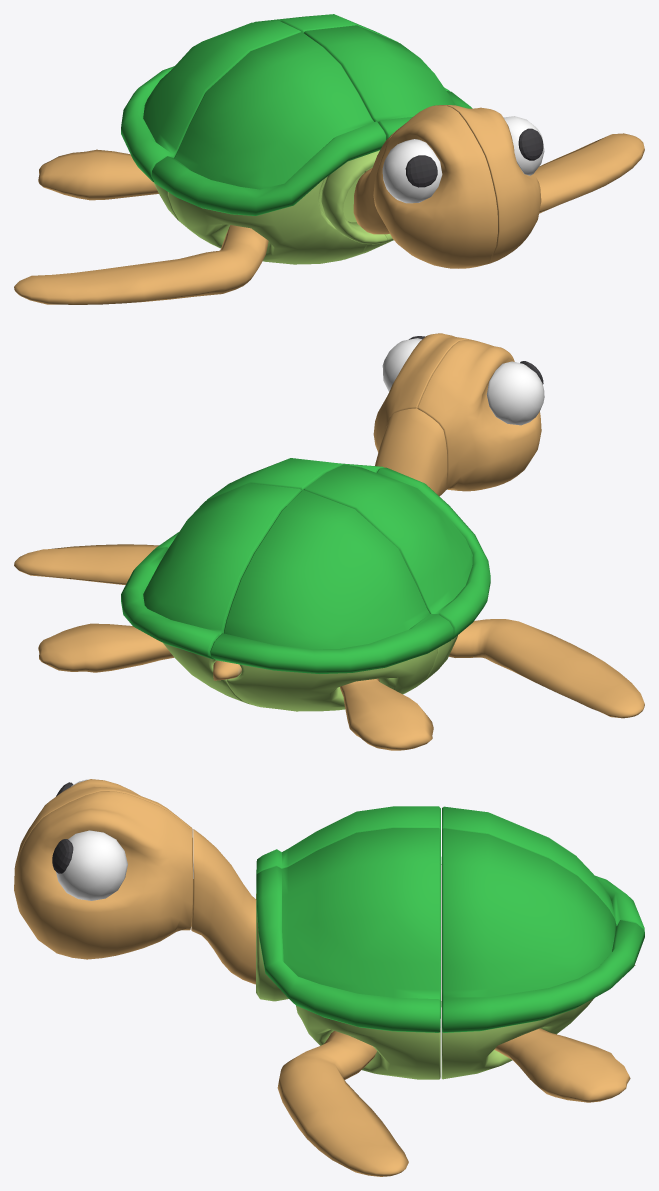
The model's file is Level_P_13.fbx.
3 views of the same model, one above another, from view 1: azimuth 30°, elevation 25°; view 2: azimuth 150°, elevation 25°; view 3: azimuth 270°, elevation 25° (orthographic). The views are drawn at different scales.
Visible parts, largest first — view 1: caparazon superior.002, cabeza.002, aleta iz, caparazon superior.001, caparazon superior.003, caparazon inferior.002, cabeza.003, aleta iz.001, pata iz, ojoiz.001, caparazon inferior.001, cabeza.001 (+2 smaller); view 2: caparazon superior.001, caparazon superior.004, caparazon superior.002, cabeza.002, aleta iz, caparazon inferior, pata iz.001, pata iz, cabeza.001, aleta iz.001, cabeza.003, ojoiz.001 (+3 smaller); view 3: caparazon superior.003, caparazon superior.004, cabeza.003, aleta iz.001, cabeza.001, pata iz.001, caparazon inferior.004, caparazon superior.001, ojoiz.002, caparazon inferior.005, caparazon superior.002, cabeza.002 (+1 smaller).
Boxes of the visible parts, x1=… form: caparazon superior.002: x1=151, y1=32, x2=386, y2=215; cabeza.002: x1=373, y1=105, x2=497, y2=268; aleta iz: x1=14, y1=225, x2=268, y2=304; caparazon superior.001: x1=121, y1=21, x2=301, y2=181; caparazon superior.003: x1=304, y1=25, x2=472, y2=139; caparazon inferior.002: x1=168, y1=172, x2=366, y2=264; cabeza.003: x1=433, y1=105, x2=541, y2=263; aleta iz.001: x1=534, y1=133, x2=644, y2=213; pata iz: x1=38, y1=149, x2=158, y2=200; ojoiz.001: x1=382, y1=139, x2=442, y2=203; caparazon inferior.001: x1=321, y1=150, x2=387, y2=244; cabeza.001: x1=353, y1=128, x2=399, y2=234; caparazon superior.001: x1=210, y1=490, x2=453, y2=673; caparazon superior.004: x1=121, y1=483, x2=301, y2=659; caparazon superior.002: x1=303, y1=464, x2=490, y2=639; cabeza.002: x1=417, y1=339, x2=541, y2=491; aleta iz: x1=449, y1=619, x2=644, y2=718; caparazon inferior: x1=227, y1=648, x2=437, y2=711; pata iz.001: x1=38, y1=623, x2=173, y2=672; pata iz: x1=340, y1=678, x2=433, y2=750; cabeza.001: x1=375, y1=408, x2=447, y2=496; aleta iz.001: x1=14, y1=544, x2=158, y2=584; cabeza.003: x1=373, y1=333, x2=473, y2=452; ojoiz.001: x1=486, y1=361, x2=544, y2=425; caparazon superior.003: x1=256, y1=828, x2=441, y2=1032; caparazon superior.004: x1=442, y1=828, x2=644, y2=1032; cabeza.003: x1=14, y1=791, x2=192, y2=959; aleta iz.001: x1=277, y1=1031, x2=408, y2=1176; cabeza.001: x1=191, y1=829, x2=255, y2=984; pata iz.001: x1=494, y1=1028, x2=630, y2=1102; caparazon inferior.004: x1=296, y1=1005, x2=440, y2=1079; caparazon superior.001: x1=442, y1=806, x2=644, y2=933; ojoiz.002: x1=52, y1=830, x2=127, y2=900; caparazon inferior.005: x1=441, y1=928, x2=594, y2=1079; caparazon superior.002: x1=256, y1=806, x2=441, y2=874; cabeza.002: x1=14, y1=779, x2=192, y2=885.
Bounding box in the file's own units: 3.94 × 1.48 × 3.18.
